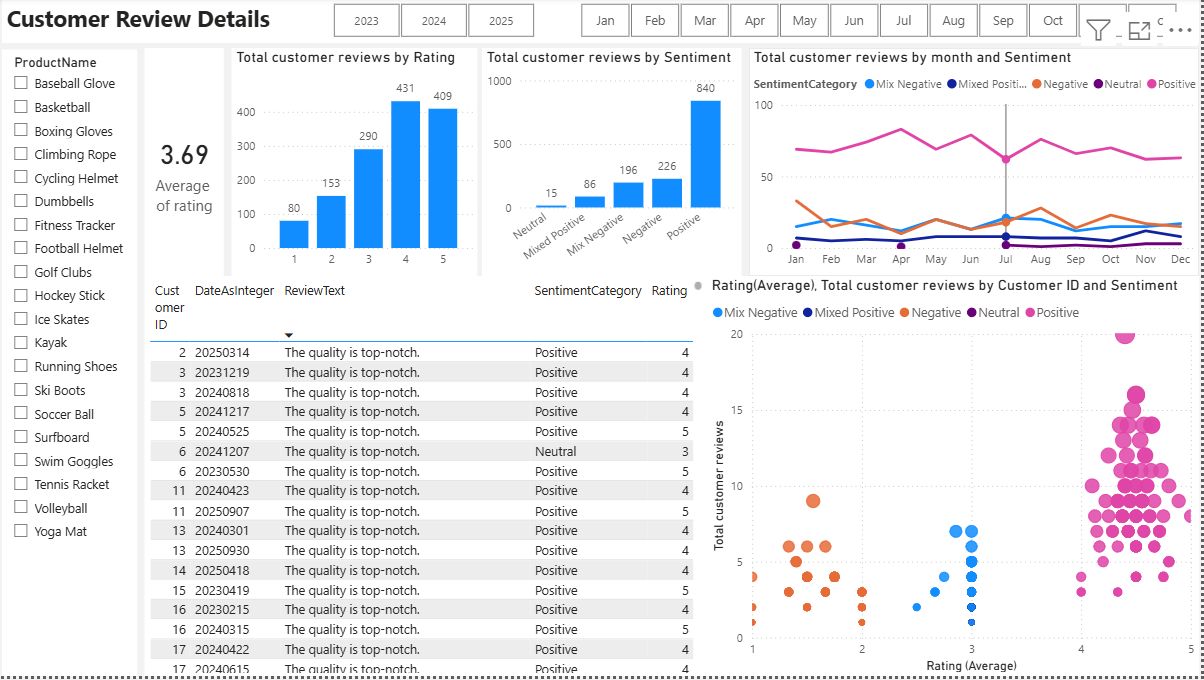

The page's visual inventory and layout, read from the dashboard file:
{"tool":"powerbi","page":{"name":"Customer Review Details","canvas":[1280,720],"ordinal":3},"visuals":[{"type":"textbox","box":[10.1,0,1269.4,48.8],"z":0},{"type":"slicer","fields":{"Values":["dim_products.ProductName"]},"box":[10,55,143.3,665],"z":1000},{"type":"slicer","fields":{"Values":["Calendar.Year"]},"box":[336.3,0,262.3,48.8],"z":2000},{"type":"slicer","fields":{"Values":["Calendar.MonthNameShort"]},"box":[598.5,0,680.9,48.8],"z":3000},{"type":"card","fields":{"Values":["Measure.Average of rating"]},"box":[160.6,54.7,84.7,201.2],"z":4000},{"type":"clusteredColumnChart","title":"Total customer reviews by Rating","fields":{"Y":["Measure.Number of Customer Reviews"],"Category":["fact_customer_reviews_with_sentiment.Rating"]},"box":[252.4,54.7,261.2,201.2],"z":5000},{"type":"clusteredColumnChart","title":"Total customer reviews by Sentiment","fields":{"Category":["fact_customer_reviews_with_sentiment.SentimentCategory"],"Y":["Measure.Number of Customer Reviews"]},"box":[518.8,54.7,275.3,201.2],"z":6000},{"type":"lineChart","title":"Total customer reviews by month and Sentiment","fields":{"Category":["Calendar.MonthNameShort"],"Y":["Measure.Number of Customer Reviews"],"Series":["fact_customer_reviews_with_sentiment.SentimentCategory"]},"box":[801.2,54.7,478.2,201.2],"z":7000},{"type":"tableEx","fields":{"Values":["fact_customer_reviews_with_sentiment.CustomerID","Calendar.DateAsInteger","fact_customer_reviews_with_sentiment.ReviewText","fact_customer_reviews_with_sentiment.SentimentCategory","fact_customer_reviews_with_sentiment.Rating"]},"box":[160.7,262.5,596.5,458.1],"z":8000},{"type":"scatterChart","title":"Rating(Average), Total customer reviews by Customer ID and Sentiment","fields":{"X":["Measure.Average of rating"],"Y":["Measure.Number of Customer Reviews"],"Category":["fact_customer_reviews_with_sentiment.CustomerID"],"Series":["fact_customer_reviews_with_sentiment.SentimentCategory"],"Size":["Measure.Number of Customer Reviews"]},"box":[757.1,262.5,521.7,458.1],"z":9000}]}

Visuals, with their boxes on the page's 1280x720 design canvas (x1, y1, x2, y2). These are canvas units, not pixel positions in the 1204x680 screenshot, which may show the page scaled, cropped or inside an application window:
textbox: bbox(10, 0, 1280, 49)
slicer - dim_products.ProductName: bbox(10, 55, 153, 720)
slicer - Calendar.Year: bbox(336, 0, 599, 49)
slicer - Calendar.MonthNameShort: bbox(598, 0, 1279, 49)
card - Measure.Average of rating: bbox(161, 55, 245, 256)
"Total customer reviews by Rating" clusteredColumnChart: bbox(252, 55, 514, 256)
"Total customer reviews by Sentiment" clusteredColumnChart: bbox(519, 55, 794, 256)
"Total customer reviews by month and Sentiment" lineChart: bbox(801, 55, 1279, 256)
tableEx - fact_customer_reviews_with_sentiment.CustomerID x Calendar.DateAsInteger: bbox(161, 262, 757, 721)
"Rating(Average), Total customer reviews by Customer ID and Sentiment" scatterChart: bbox(757, 262, 1279, 721)
